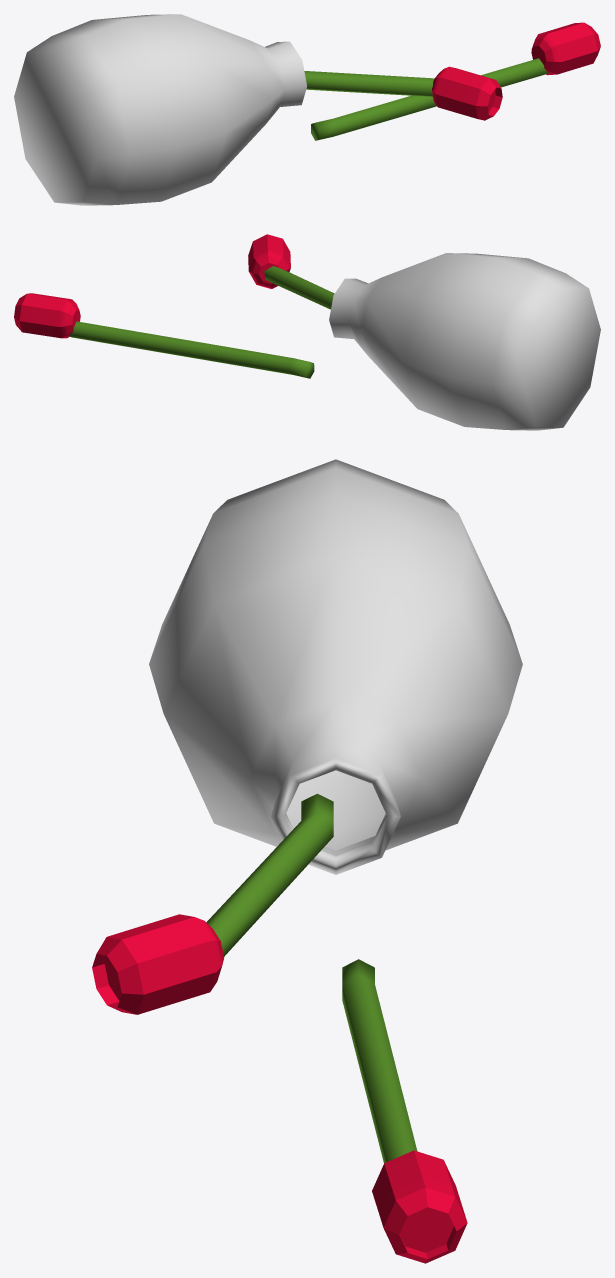
Rendered from Vase_Broke.fbx.
The picture shows the model from 3 angles, top to bottom: view 1: azimuth 30°, elevation 25°; view 2: azimuth 150°, elevation 25°; view 3: azimuth 270°, elevation 25°; orthographic projection. The views are drawn at different scales.
Parts seen in each view (by area): view 1: pCylinder58, pCylinder59, pCylinder61, pCylinder62, pCylinder60; view 2: pCylinder58, pCylinder59, pCylinder62, pCylinder61, pCylinder60; view 3: pCylinder58, pCylinder61, pCylinder62, pCylinder59, pCylinder60.
Boxes of the visible parts, left/top/right/bottom form: pCylinder58: left=14, top=14, right=307, bottom=205; pCylinder59: left=311, top=58, right=549, bottom=140; pCylinder61: left=432, top=66, right=502, bottom=120; pCylinder62: left=531, top=22, right=600, bottom=75; pCylinder60: left=304, top=71, right=434, bottom=96; pCylinder58: left=329, top=253, right=600, bottom=430; pCylinder59: left=69, top=321, right=314, bottom=378; pCylinder62: left=14, top=293, right=80, bottom=338; pCylinder61: left=248, top=234, right=290, bottom=288; pCylinder60: left=264, top=266, right=334, bottom=309; pCylinder58: left=149, top=459, right=522, bottom=874; pCylinder61: left=92, top=914, right=224, bottom=1014; pCylinder62: left=372, top=1150, right=467, bottom=1263; pCylinder59: left=342, top=959, right=417, bottom=1163; pCylinder60: left=206, top=793, right=333, bottom=956.
Size of the model in its own units: 5.47 by 1.69 by 1.95.
